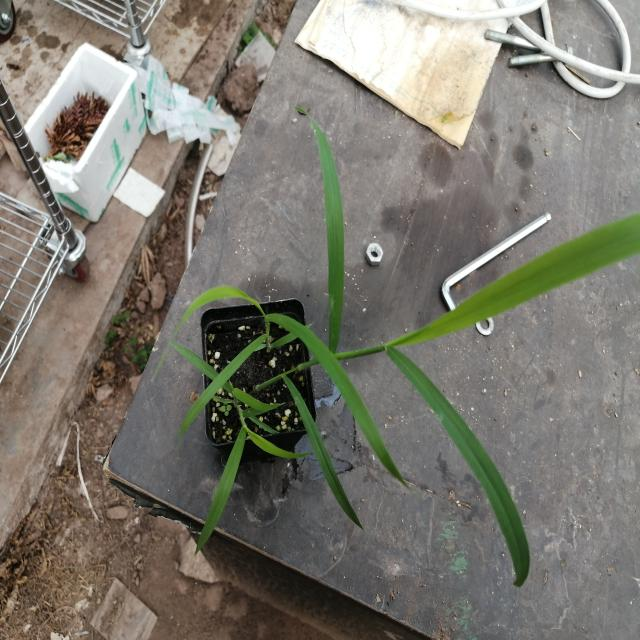crabgrass: (286, 179, 640, 568), (160, 258, 382, 559)
